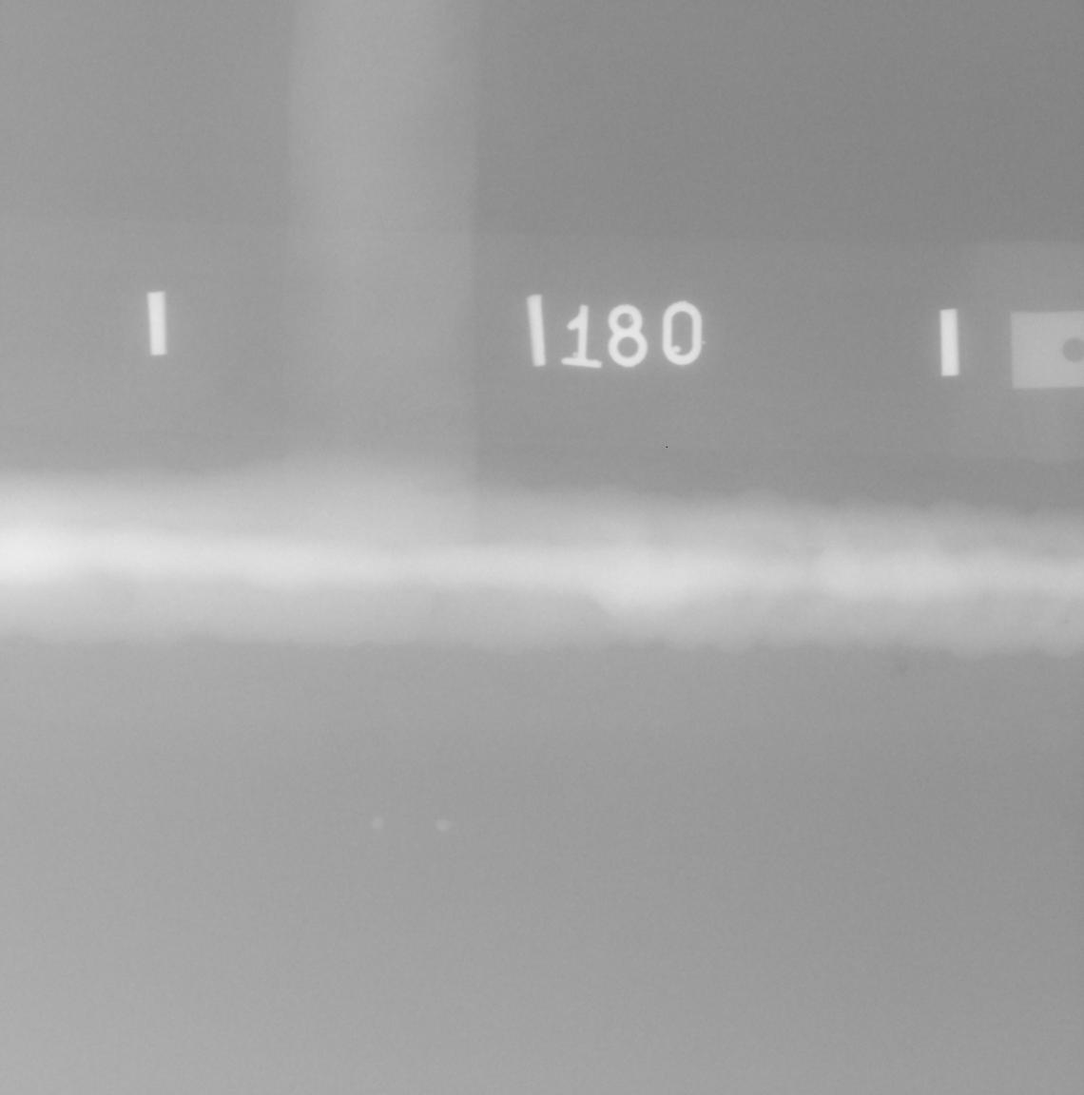Inclusion: (416, 481, 456, 496)
Pore/Porosity: (1064, 621, 1068, 624)
